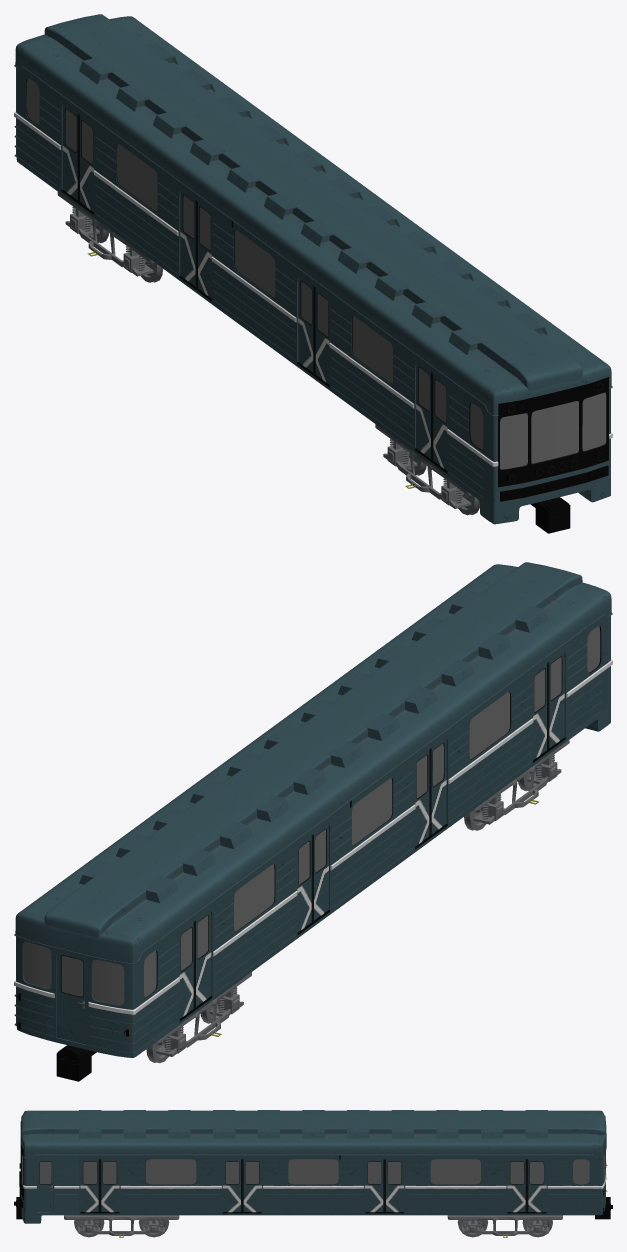
Rendered from train_low v2.fbx.
The picture shows the model from 3 angles, top to bottom: view 1: azimuth 30°, elevation 25°; view 2: azimuth 150°, elevation 25°; view 3: azimuth 270°, elevation 25°; orthographic projection. The views are drawn at different scales.
Visible parts, largest first — view 1: train main part_low|roof cherpak_low|Dupli|23, train main part_low|roof cherpak_low.001|Dupli|24, train main part_low|side wall_low|Dupli|3.33, train main part_low|side wall_low|Dupli|3.35, train main part_low|side wall_low|Dupli|3.31, train head part_low|head wall glass_low|Dupli|5.3, train tail part_low|side wall tail_low|Dupli|3.1, train head part_low|side wall head_low|Dupli|2.5, train head part_low|roof tail part_low|Dupli|4, train head part_low|roof tail part_low.007|Dupli|6, train head part_low|head wall mask_low.002|Dupli|7.3, train tail part_low|roof tail part_low|Dupli|4.3 (+22 smaller); view 2: train main part_low|roof cherpak_low|Dupli|23, train main part_low|roof cherpak_low.001|Dupli|24, train main part_low|side wall_low|Dupli|3.33, train main part_low|side wall_low|Dupli|3.31, train main part_low|side wall_low|Dupli|3.35, train tail part_low|tail wall_low|Dupli|12.2, train head part_low|side wall head_low|Dupli|2.5, train tail part_low|side wall tail_low|Dupli|3.1, train tail part_low|tail wall roof_low|Dupli|11.2, train tail part_low|roof tail part_low|Dupli|4.3, train tail part_low|tail wall glass_low|Dupli|13.2, train head part_low|roof tail part_low|Dupli|4 (+20 smaller); view 3: train main part_low|roof cherpak_low|Dupli|23, train main part_low|side wall_low|Dupli|3.30, train main part_low|side wall_low|Dupli|3.32, train main part_low|side wall_low|Dupli|3.34, train main part_low|roof cherpak_low.001|Dupli|24, train tail part_low|side wall tail_low|Dupli|3, train head part_low|side wall head door_low|Dupli|3.2, train main part_low|side wall glass_low|Dupli|4.30, train main part_low|side wall glass_low|Dupli|4.32, train main part_low|side wall glass_low|Dupli|4.34, train main part_low|wheel block corpus_hi.003|Dupli|10.16, train main part_low|wheel block corpus_hi.003|Dupli|10.17 (+42 smaller).
Part boxes in pixels (left/top/right/bottom): train main part_low|roof cherpak_low|Dupli|23: left=59, top=46, right=564, bottom=377; train main part_low|roof cherpak_low.001|Dupli|24: left=79, top=43, right=547, bottom=354; train main part_low|side wall_low|Dupli|3.33: left=94, top=120, right=178, bottom=274; train main part_low|side wall_low|Dupli|3.35: left=329, top=293, right=413, bottom=447; train main part_low|side wall_low|Dupli|3.31: left=212, top=207, right=295, bottom=361; train head part_low|head wall glass_low|Dupli|5.3: left=500, top=392, right=606, bottom=469; train tail part_low|side wall tail_low|Dupli|3.1: left=18, top=67, right=60, bottom=188; train head part_low|side wall head_low|Dupli|2.5: left=447, top=379, right=489, bottom=502; train head part_low|roof tail part_low|Dupli|4: left=448, top=329, right=583, bottom=391; train head part_low|roof tail part_low.007|Dupli|6: left=500, top=344, right=582, bottom=391; train head part_low|head wall mask_low.002|Dupli|7.3: left=498, top=389, right=608, bottom=487; train tail part_low|roof tail part_low|Dupli|4.3: left=40, top=31, right=176, bottom=93; train main part_low|roof cherpak_low|Dupli|23: left=63, top=594, right=567, bottom=925; train main part_low|roof cherpak_low.001|Dupli|24: left=79, top=591, right=547, bottom=902; train main part_low|side wall_low|Dupli|3.33: left=213, top=841, right=297, bottom=995; train main part_low|side wall_low|Dupli|3.31: left=331, top=755, right=415, bottom=909; train main part_low|side wall_low|Dupli|3.35: left=449, top=668, right=532, bottom=822; train tail part_low|tail wall_low|Dupli|12.2: left=14, top=936, right=138, bottom=1054; train head part_low|side wall head_low|Dupli|2.5: left=566, top=615, right=609, bottom=736; train tail part_low|side wall tail_low|Dupli|3.1: left=137, top=927, right=179, bottom=1051; train tail part_low|tail wall roof_low|Dupli|11.2: left=14, top=911, right=138, bottom=964; train tail part_low|roof tail part_low|Dupli|4.3: left=43, top=878, right=179, bottom=939; train tail part_low|tail wall glass_low|Dupli|13.2: left=23, top=941, right=124, bottom=1004; train head part_low|roof tail part_low|Dupli|4: left=451, top=579, right=586, bottom=641; train main part_low|roof cherpak_low|Dupli|23: left=79, top=1110, right=547, bottom=1155; train main part_low|side wall_low|Dupli|3.30: left=263, top=1155, right=363, bottom=1212; train main part_low|side wall_low|Dupli|3.32: left=405, top=1155, right=505, bottom=1212; train main part_low|side wall_low|Dupli|3.34: left=121, top=1155, right=221, bottom=1212; train main part_low|roof cherpak_low.001|Dupli|24: left=79, top=1110, right=547, bottom=1138; train tail part_low|side wall tail_low|Dupli|3: left=548, top=1155, right=598, bottom=1212; train head part_low|side wall head door_low|Dupli|3.2: left=28, top=1155, right=78, bottom=1212; train main part_low|side wall glass_low|Dupli|4.30: left=288, top=1159, right=338, bottom=1184; train main part_low|side wall glass_low|Dupli|4.32: left=430, top=1159, right=480, bottom=1184; train main part_low|side wall glass_low|Dupli|4.34: left=146, top=1159, right=196, bottom=1184; train main part_low|wheel block corpus_hi.003|Dupli|10.16: left=447, top=1215, right=562, bottom=1237; train main part_low|wheel block corpus_hi.003|Dupli|10.17: left=64, top=1215, right=179, bottom=1237.
Size of the model in its own units: 295 by 379 by 1940.
